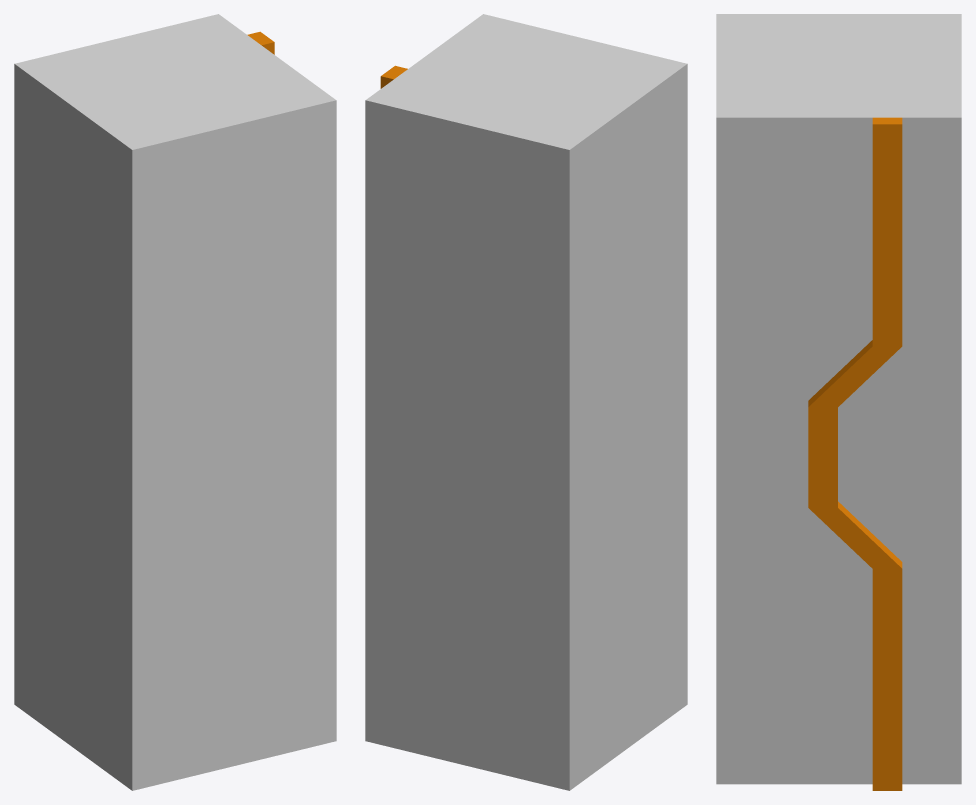
Rendered from Wall6.fbx.
3 views of the same model, side by side, from view 1: azimuth 30°, elevation 25°; view 2: azimuth 150°, elevation 25°; view 3: azimuth 270°, elevation 25° (orthographic). The views are drawn at different scales.
Visible parts, largest first — view 1: Cube.005; view 2: Cube.005; view 3: Cube.005.
Part boxes in pixels (bbox=[...]): Cube.005: bbox=[14, 14, 336, 790]; Cube.005: bbox=[365, 14, 687, 790]; Cube.005: bbox=[716, 14, 961, 790].
Size of the model in its own units: 213 by 600 by 200.
